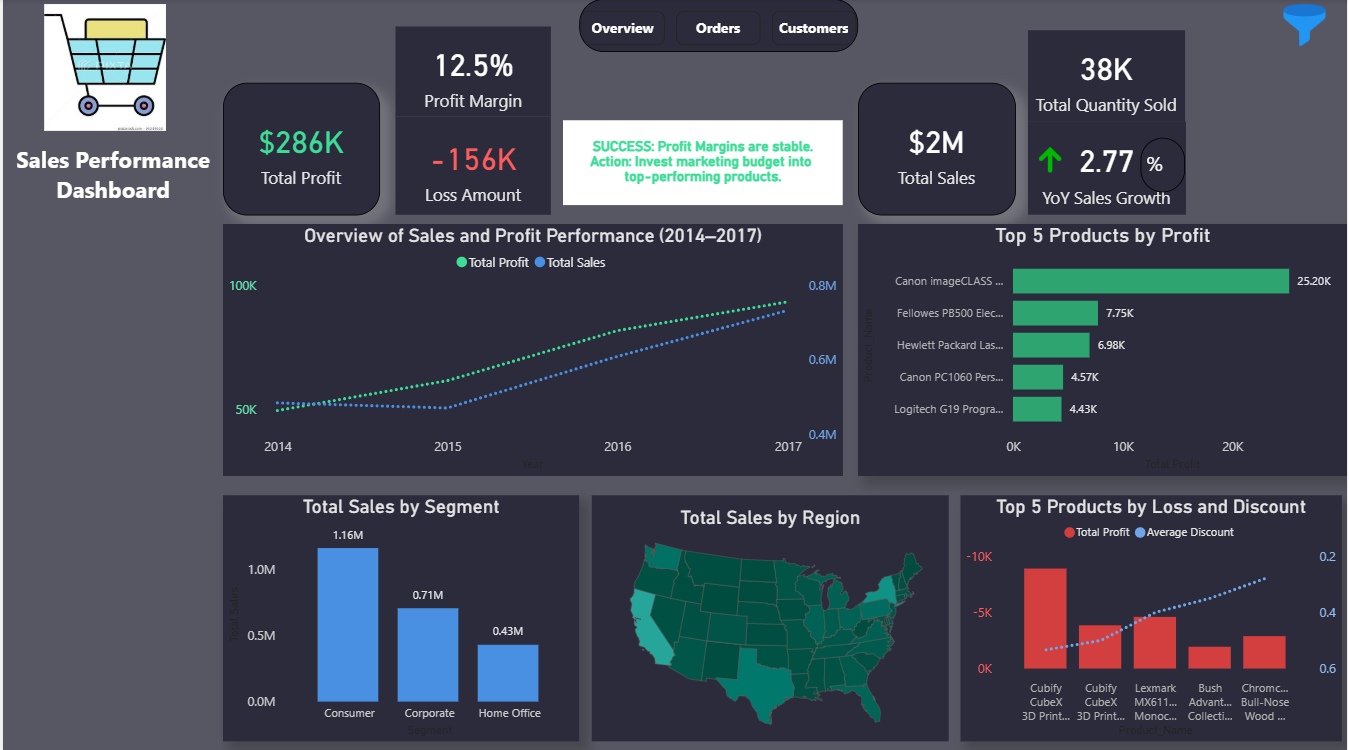

This screenshot's page, from the dashboard's own definition file:
{"tool":"powerbi","page":{"name":"Overview","canvas":[1280,720],"ordinal":0},"visuals":[{"type":"card","fields":{"Values":["Dax_Measures.Profit_Margin"]},"box":[373.2,26.1,148.2,85.9],"z":0,"group":"g2"},{"type":"group","id":"g1","title":"Group 4","box":[976.2,29.8,150,176.2],"z":0,"group":"g3"},{"type":"card","title":"Total Profit","fields":{"Values":["Dax_Measures.Total_Profit"]},"box":[209.9,79.6,149.6,126.2],"z":0},{"type":"card","fields":{"Values":["Dax_Measures.Total Sales"]},"box":[814.3,79.8,150,126.2],"z":1000},{"type":"card","fields":{"Values":["Dax_Measures.Loss Amount"]},"box":[373.2,112,148.2,93.8],"z":1000,"group":"g2"},{"type":"image","box":[976.2,127.4,41.7,51.2],"z":1000,"group":"g3"},{"type":"card","fields":{"Values":["Dax_Measures.Total Quantity Sold"]},"box":[976.2,29.8,149.6,87],"z":2000,"group":"g1"},{"type":"clusteredBarChart","title":"Top 5 Products by Profit","fields":{"Category":["Dim_Products.Product_Name"],"Y":["Dax_Measures.Total Profit"]},"box":[813.7,214.1,466.6,240.1],"z":2000},{"type":"lineChart","title":"Overview of Sales and Profit Performance (2014–2017)","fields":{"Category":["Dim_Date.Date.Variation.Date Hierarchy.Year","Dim_Date.Date.Variation.Date Hierarchy.Month"],"Y":["Dax_Measures.Total_Profit"],"Y2":["Dax_Measures.Total Sales"]},"box":[209.9,214.1,590.1,240.1],"z":3000},{"type":"columnChart","title":"Total Sales by Segment","fields":{"Category":["Dim_Customers.Segment"],"Y":["Dax_Measures.Total Sales"]},"box":[209.5,472.6,339.3,234.5],"z":4000},{"type":"lineStackedColumnComboChart","title":"Top 5 Products by Loss and Discount","fields":{"Category":["Dim_Products.Product_Name"],"Y":["Dax_Measures.Total Profit"],"Y2":["Dax_Measures.Average Discount"]},"box":[911.9,472.6,363.1,234.5],"z":5000},{"type":"card","fields":{"Values":["Dax_Measures.YoY Sales Growth %"]},"box":[976.2,116.9,150,88.9],"z":6000,"group":"g4"},{"type":"textbox","box":[0,127.6,209.9,86.4],"z":6000},{"type":"shapeMap","title":"Total Sales by Region","fields":{"Value":["Dax_Measures.Total Sales"],"Category":["Fact_Sales.State"]},"box":[561.2,472,340.3,234.6],"z":7000},{"type":"image","box":[0,0,194,131],"z":8000},{"type":"pageNavigator","box":[548.8,0,265.5,50],"z":9000},{"type":"image","box":[1208.3,0,61.9,50],"z":10000},{"type":"group","id":"g2","title":"Group 3","box":[373.2,26.1,148.2,179.8],"z":13000},{"type":"group","id":"g3","title":"Group 5","box":[976.2,29.8,150,176.2],"z":14000},{"type":"card","fields":{"Values":["Dax_Measures.Executive insight message"]},"box":[533.3,115.5,266.7,81],"z":15000},{"type":"group","id":"g4","title":"Group 2","box":[976.2,116.9,150,88.9],"z":15000,"group":"g1"},{"type":"textbox","box":[1083.2,132.7,42.5,52.1],"z":16000,"group":"g4"}]}

Visuals, with their boxes in screenshot pixels (x1, y1, x2, y2), scaled from the page's 1280x720 canvas onto the 1349x750 screenshot:
card - Dax_Measures.Profit_Margin: 393, 27, 550, 117
"Group 4" group: 1029, 31, 1187, 215
"Total Profit" card: 221, 83, 379, 214
card - Dax_Measures.Total Sales: 858, 83, 1016, 215
card - Dax_Measures.Loss Amount: 393, 117, 550, 214
image: 1029, 133, 1073, 186
card - Dax_Measures.Total Quantity Sold: 1029, 31, 1186, 122
"Top 5 Products by Profit" clusteredBarChart: 858, 223, 1348, 473
"Overview of Sales and Profit Performance (2014–2017)" lineChart: 221, 223, 843, 473
"Total Sales by Segment" columnChart: 221, 492, 578, 737
"Top 5 Products by Loss and Discount" lineStackedColumnComboChart: 961, 492, 1344, 737
card - Dax_Measures.YoY Sales Growth %: 1029, 122, 1187, 214
textbox: 0, 133, 221, 223
"Total Sales by Region" shapeMap: 591, 492, 950, 736
image: 0, 0, 204, 136
pageNavigator: 578, 0, 858, 52
image: 1273, 0, 1339, 52
"Group 3" group: 393, 27, 550, 214
"Group 5" group: 1029, 31, 1187, 215
card - Dax_Measures.Executive insight message: 562, 120, 843, 205
"Group 2" group: 1029, 122, 1187, 214
textbox: 1142, 138, 1186, 192
